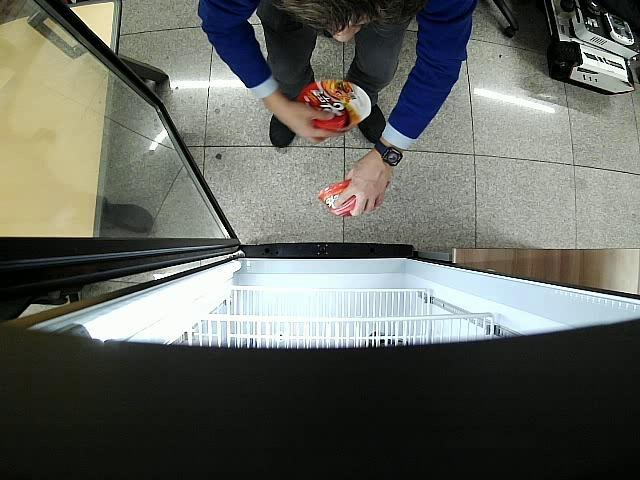10_wangTtukkeong: (296, 80, 370, 134), (317, 179, 356, 216)
